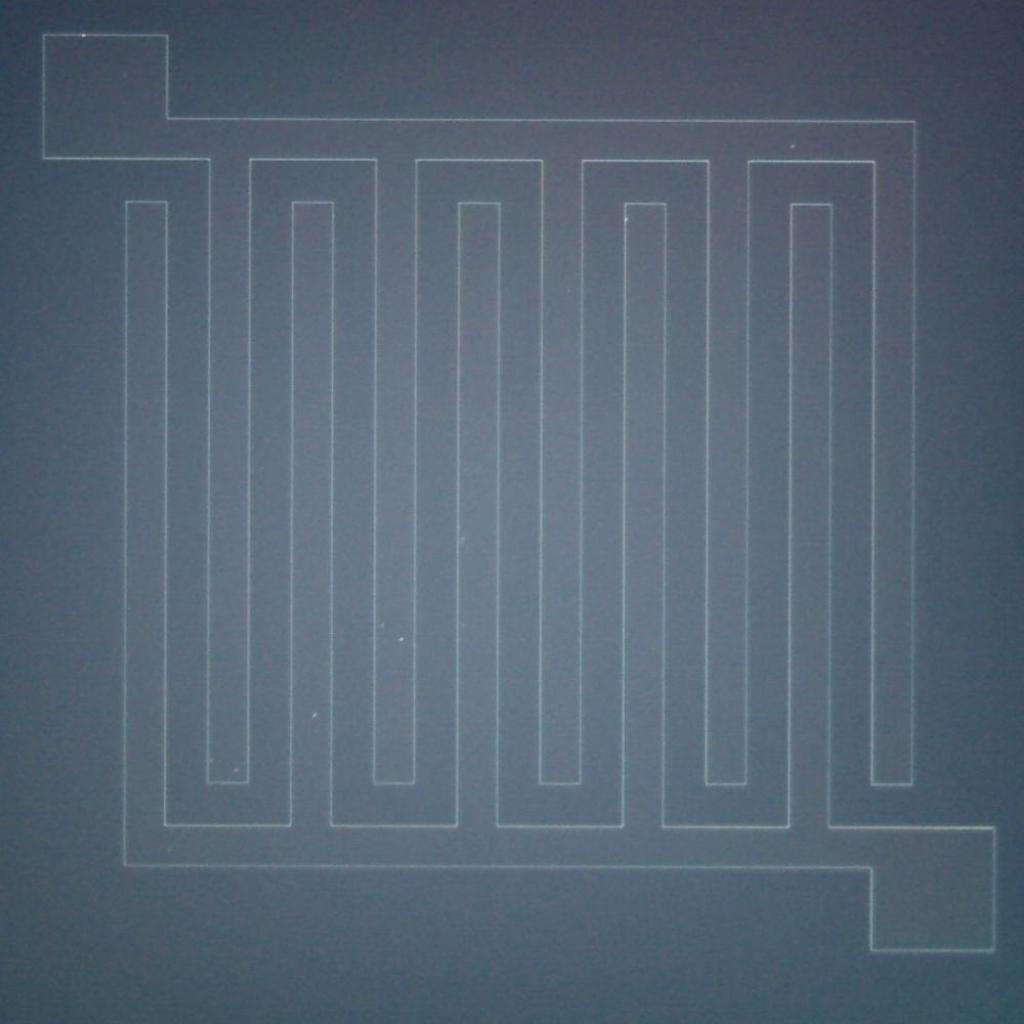dot: (312, 712, 318, 718), (380, 623, 385, 628), (790, 144, 794, 148), (209, 758, 213, 762), (234, 768, 238, 772), (400, 637, 402, 641)
